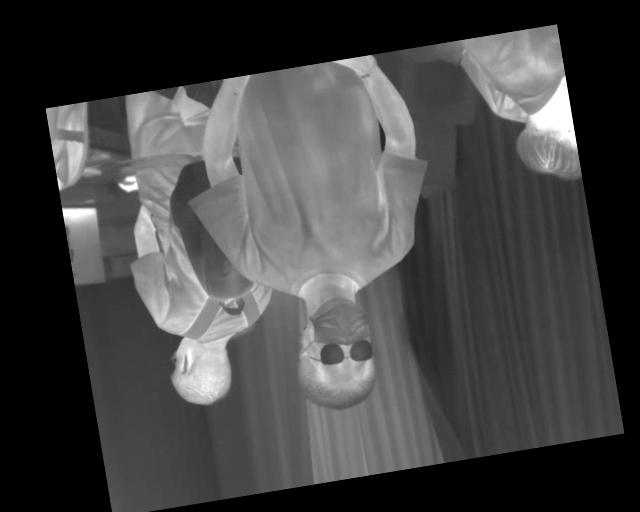face: (53, 216, 167, 346), (329, 232, 423, 341)
